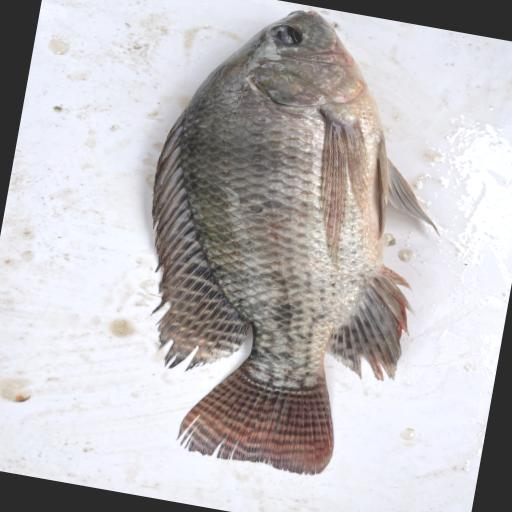Tilapia: (107, 0, 476, 491)
